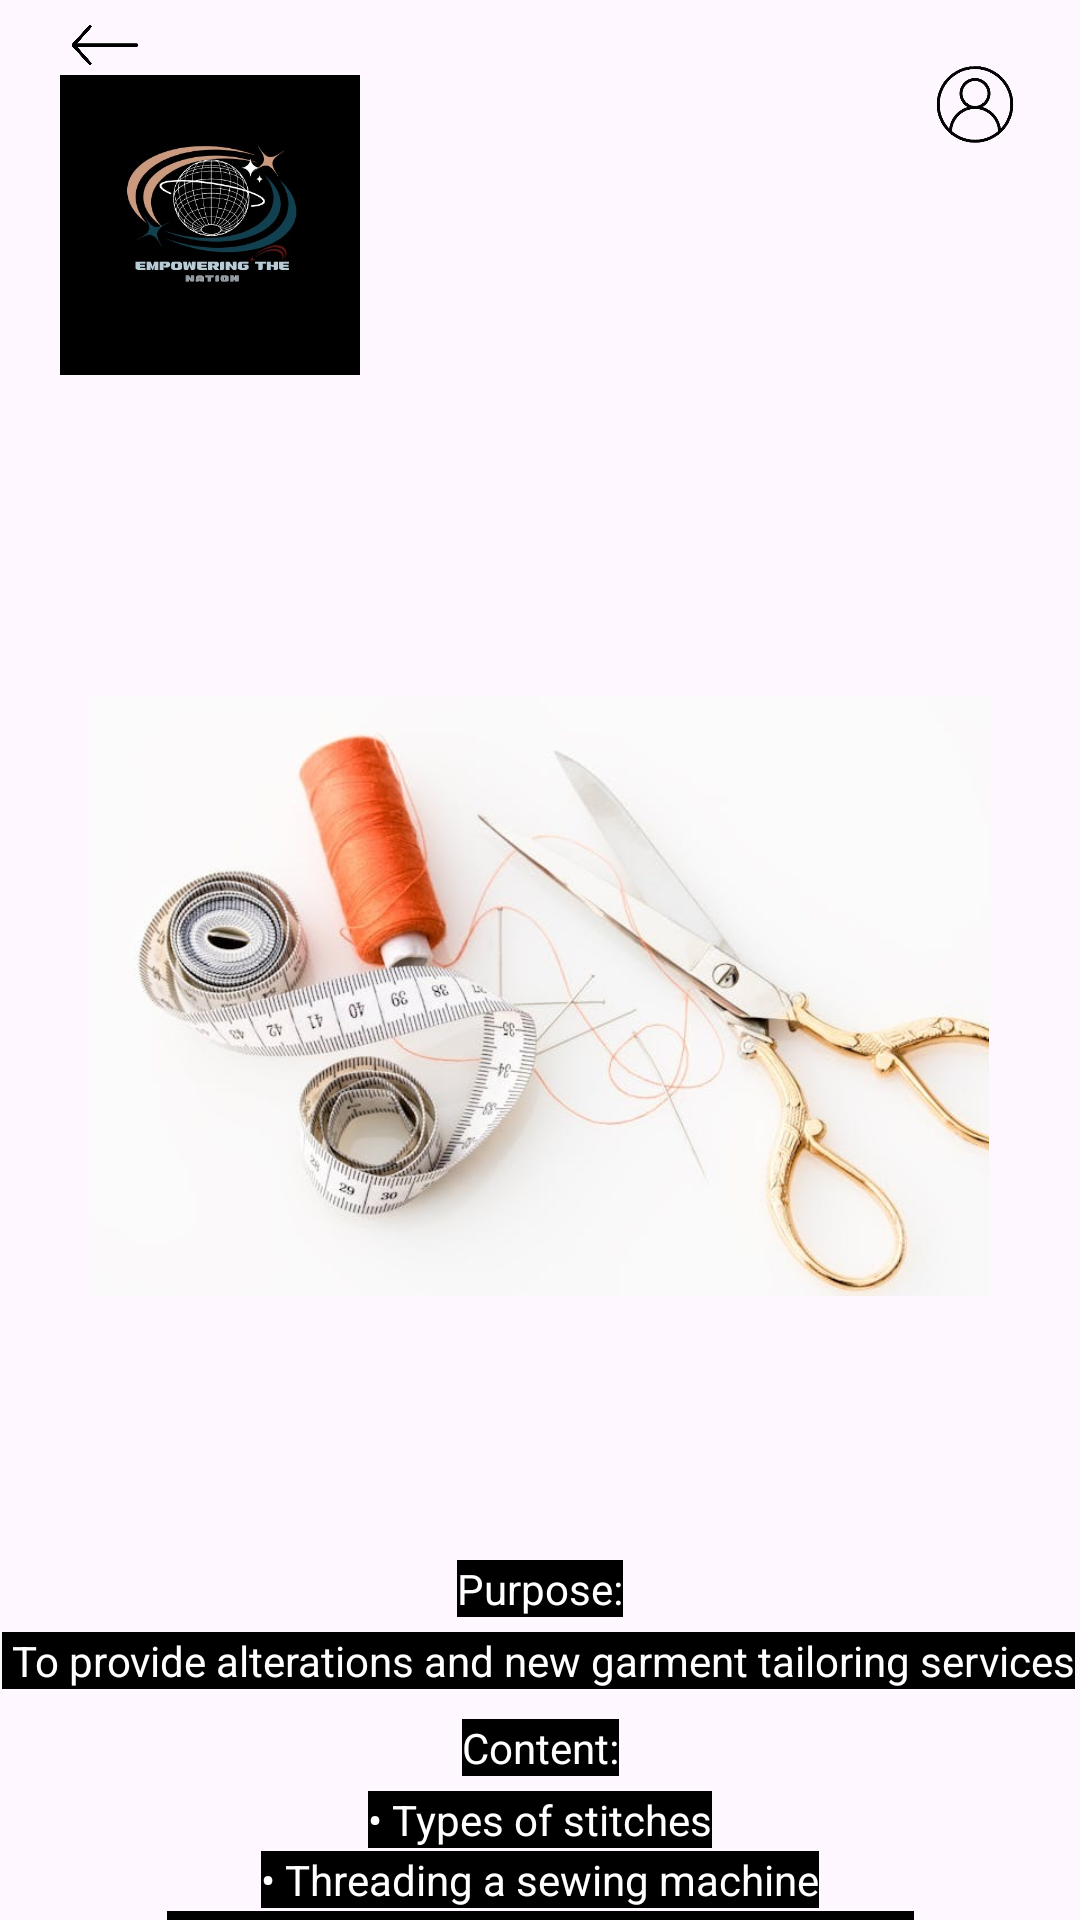

Screen size 1080 × 1920. Icon name, then its box in pixels as (x1, y1, x2, y2):
back: (72, 25, 138, 65)
